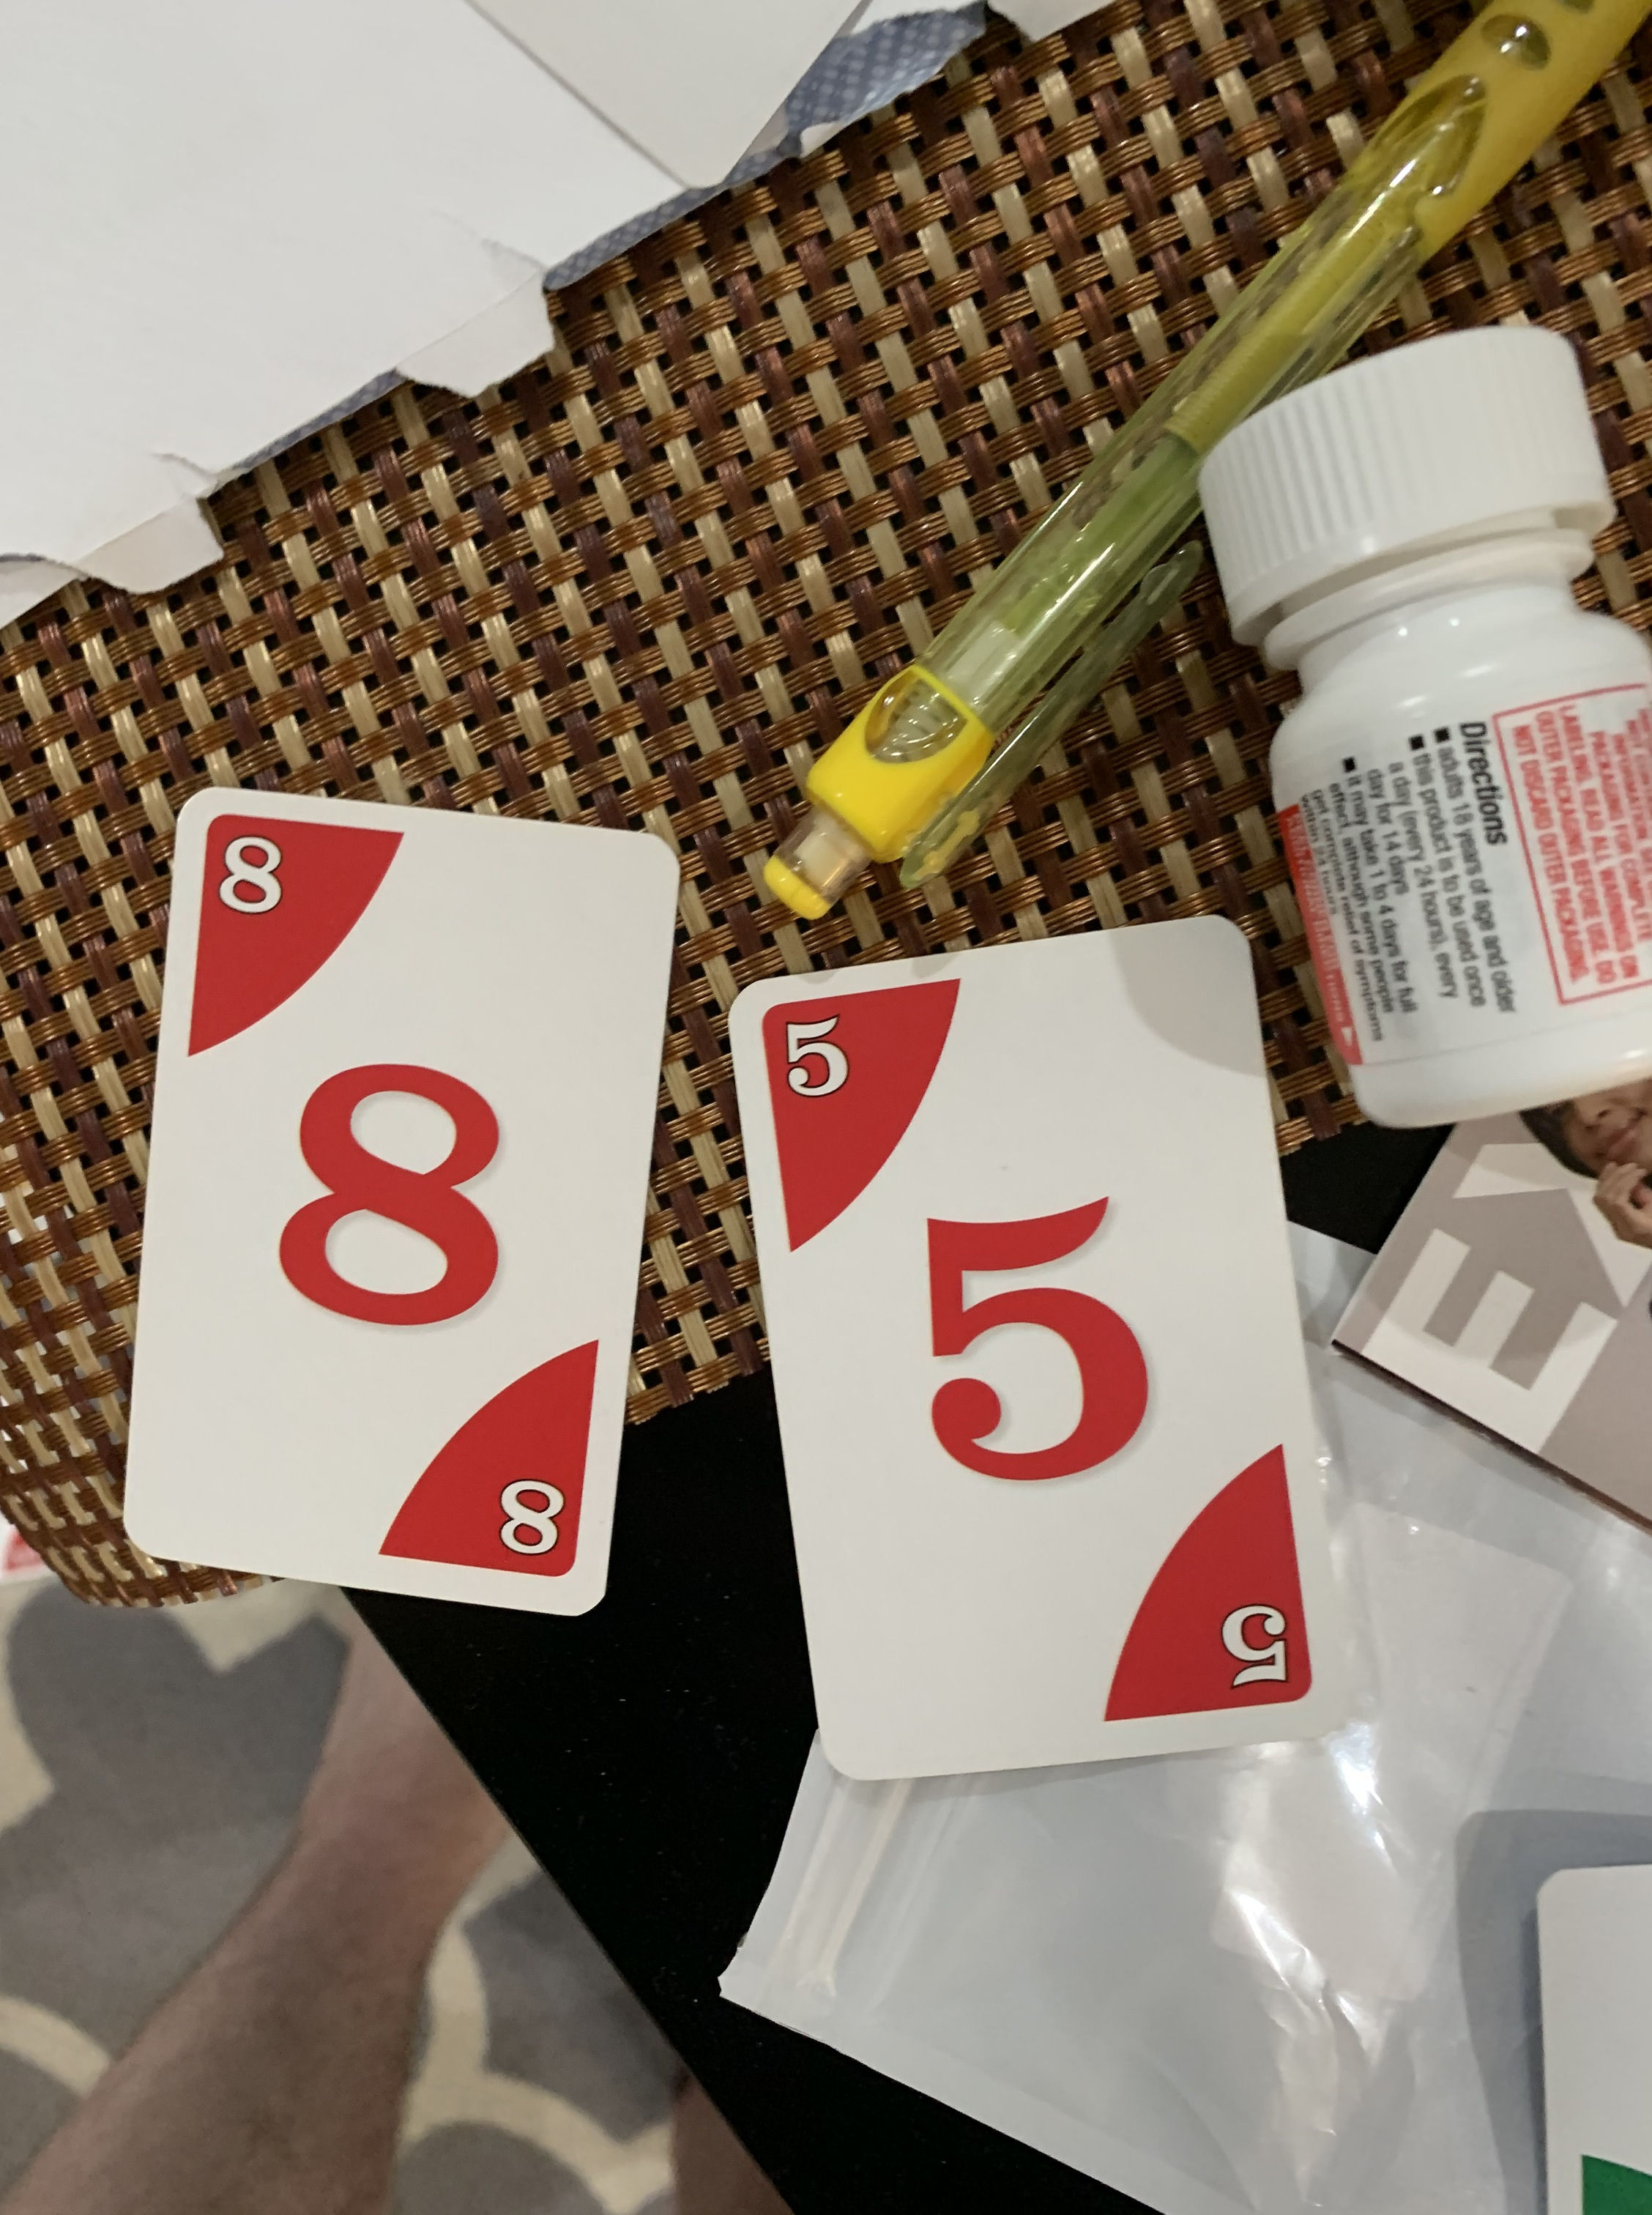eight: (106, 769, 691, 1628)
five: (715, 894, 1364, 1793)
